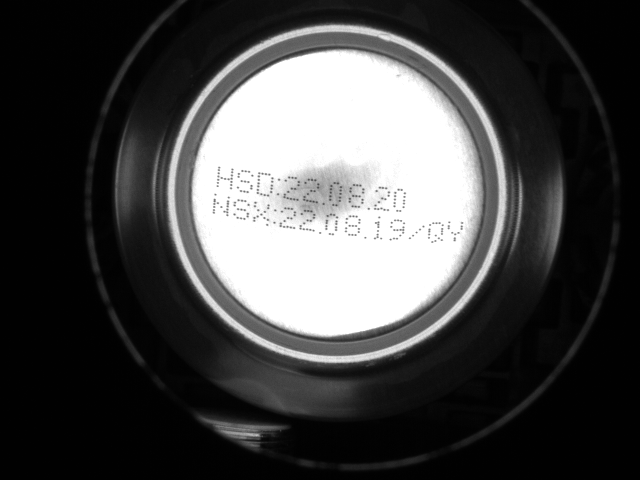/: (407, 221, 427, 244)
0: (393, 184, 412, 212), (327, 178, 343, 209), (323, 211, 342, 234)
1: (368, 215, 385, 242)
2: (302, 175, 326, 206), (368, 181, 392, 211), (279, 173, 302, 202), (275, 205, 298, 230), (299, 207, 317, 232)
8: (344, 214, 368, 239), (346, 181, 365, 208)
9: (387, 216, 406, 243)
D: (254, 171, 276, 197)
H: (215, 164, 236, 188)
N: (207, 193, 232, 219)
Q: (424, 221, 444, 243)
S: (231, 196, 251, 221), (236, 170, 253, 191)
X: (252, 200, 271, 225)
Y: (446, 217, 467, 242)
